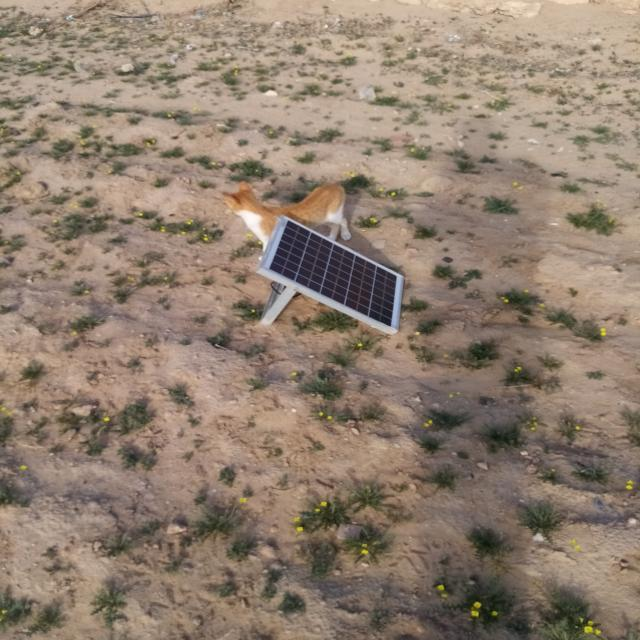no faulty: (264, 216, 404, 330)
